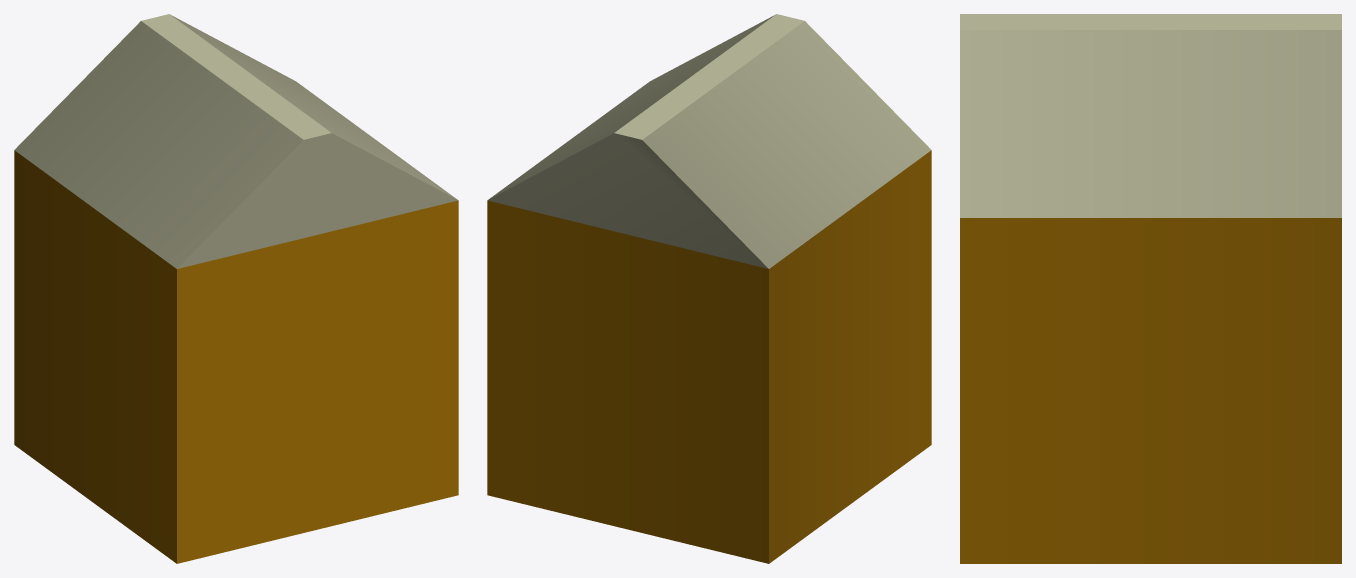
Rendered from building-19-low.glb.
The picture shows the model from 3 angles, left to right: view 1: azimuth 30°, elevation 25°; view 2: azimuth 150°, elevation 25°; view 3: azimuth 270°, elevation 25°; orthographic projection. The views are drawn at different scales.
Visible parts, largest first — view 1: mesh0; view 2: mesh0; view 3: mesh0.
Part boxes in pixels (left/top/right/bottom): mesh0: left=14, top=14, right=458, bottom=563; mesh0: left=487, top=14, right=931, bottom=563; mesh0: left=960, top=14, right=1341, bottom=563.
Size of the model in its own units: 0.6 by 0.8 by 0.6.
